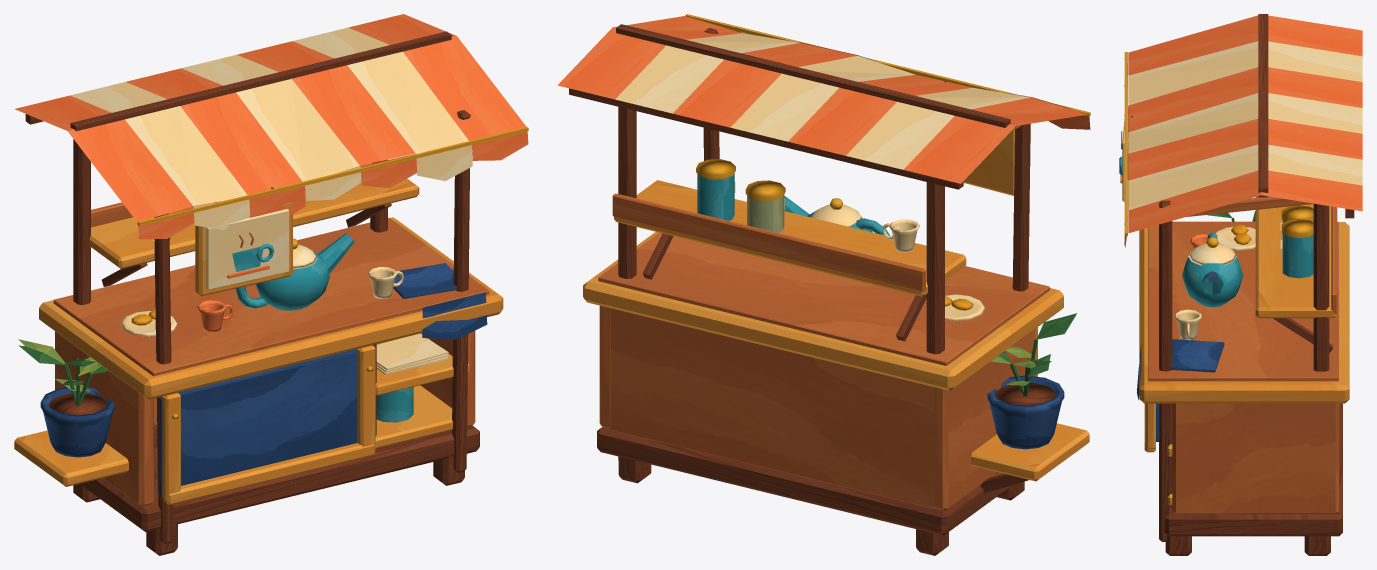
The model's file is prior-tea_kiosk-03.glb.
3 views of the same model, side by side, from view 1: azimuth 30°, elevation 25°; view 2: azimuth 150°, elevation 25°; view 3: azimuth 270°, elevation 25° (orthographic). The views are drawn at different scales.
Parts seen in each view (by area): view 1: tea_kiosk; view 2: tea_kiosk; view 3: tea_kiosk.
Part boxes in pixels (x1,y1,x2,y2): tea_kiosk: (14,14,528,555); tea_kiosk: (557,14,1090,555); tea_kiosk: (1119,14,1362,555).
Size of the model in its own units: 2.5 by 2.26 by 1.3.
Materials: 2 (2 with a texture image).
